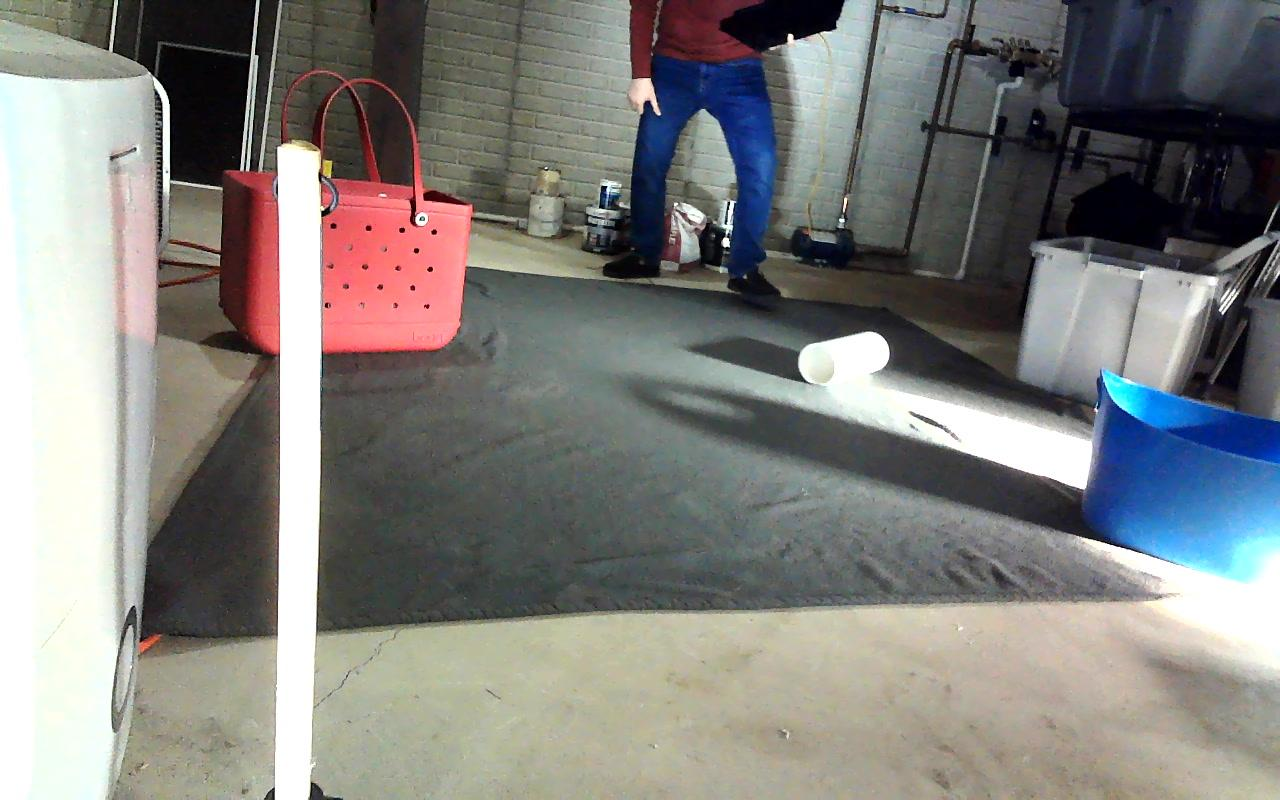coral: (799, 331, 889, 383)
